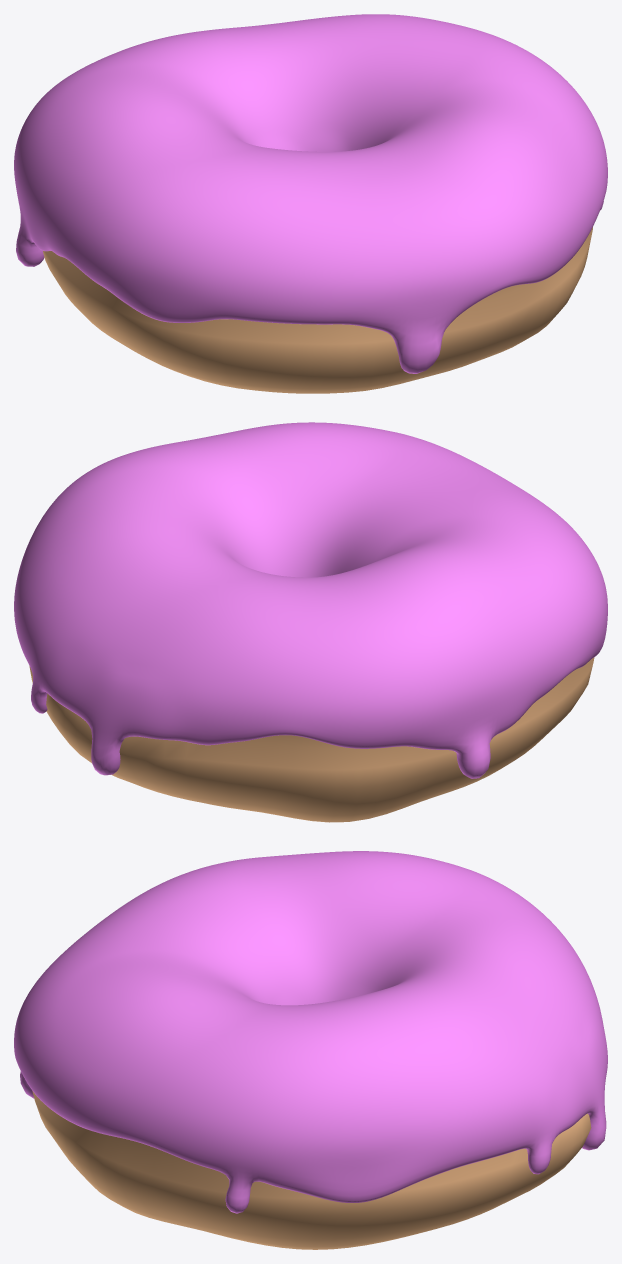
3 renders of one model, top to bottom at view 1: azimuth 30°, elevation 25°; view 2: azimuth 150°, elevation 25°; view 3: azimuth 270°, elevation 25°, orthographic.
Parts seen in each view (by area): view 1: Icing, Donut; view 2: Icing, Donut; view 3: Icing, Donut.
Boxes of the visible parts, x1,y1,x2,y2 form: Icing: [14, 14, 607, 373]; Donut: [43, 227, 592, 393]; Icing: [14, 422, 607, 778]; Donut: [29, 657, 594, 822]; Icing: [14, 851, 607, 1213]; Donut: [32, 1091, 591, 1249].
Size of what is drawn, in the model's own units: 0.0899 by 0.039 by 0.0897.
